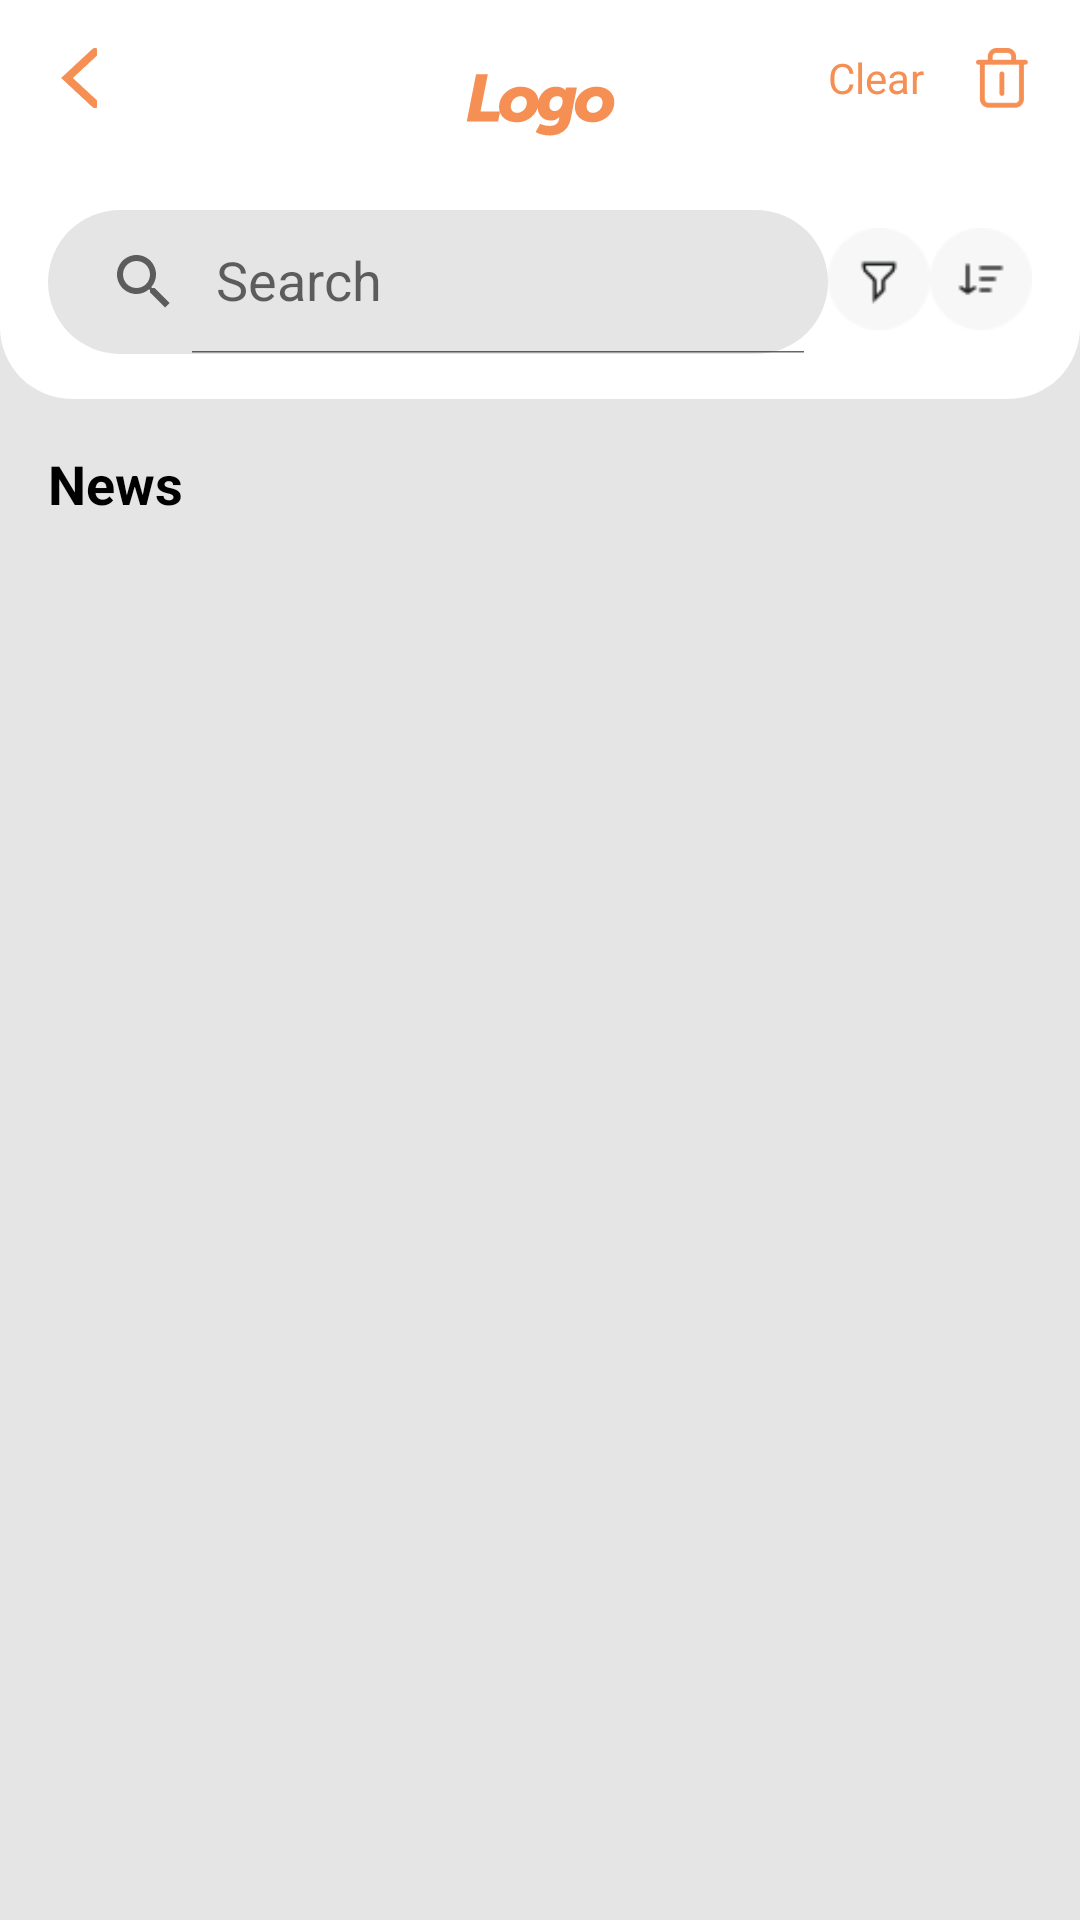

Point at icon controls on the screen. Image size 1080*1920, points as point (x, y).
back: point (79, 78)
filter: point (879, 282)
trash: point (1002, 78)
